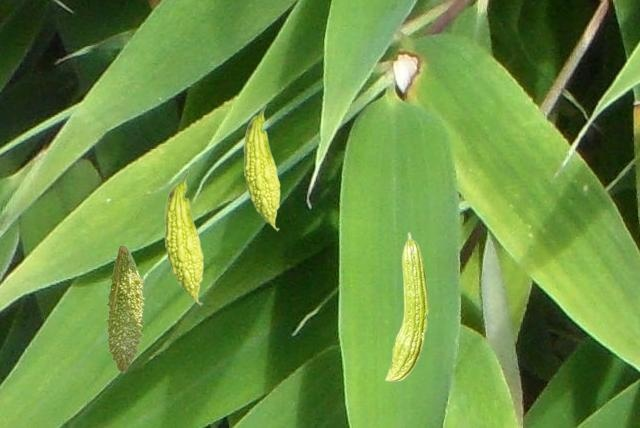ampalaya: (384, 232, 429, 382), (164, 170, 204, 306), (104, 244, 146, 373), (243, 104, 280, 231)
